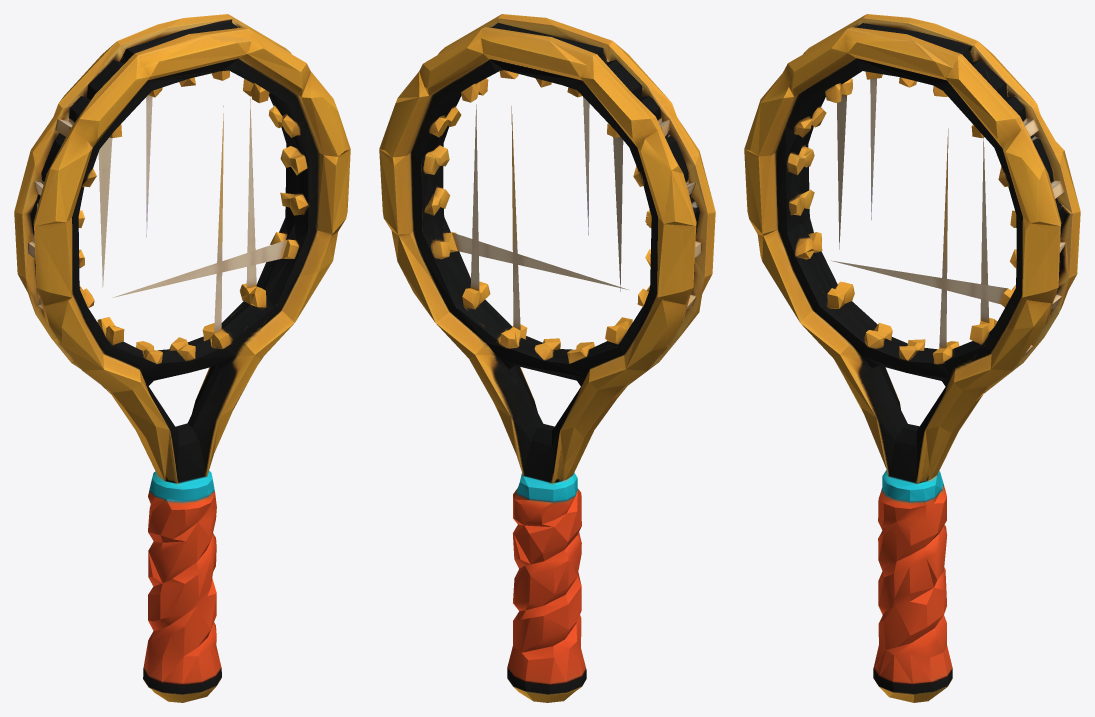
Rendered from source.glb.
The picture shows the model from 3 angles, left to right: view 1: azimuth 30°, elevation 25°; view 2: azimuth 150°, elevation 25°; view 3: azimuth 330°, elevation 25°; orthographic projection.
Size of the model in its own units: 0.9511 by 1.9 by 0.2103.
1 material, 1 textured.
